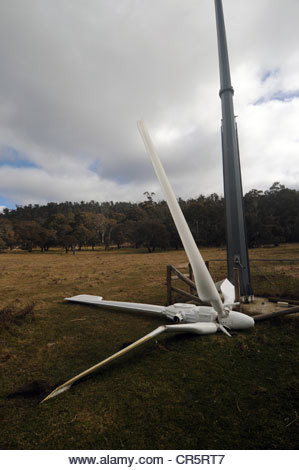faulty: (63, 237, 262, 352)
